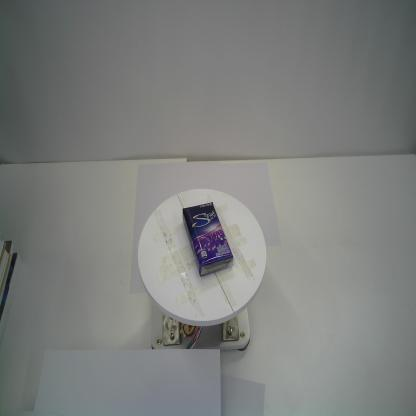Gum: (180, 198, 234, 280)
